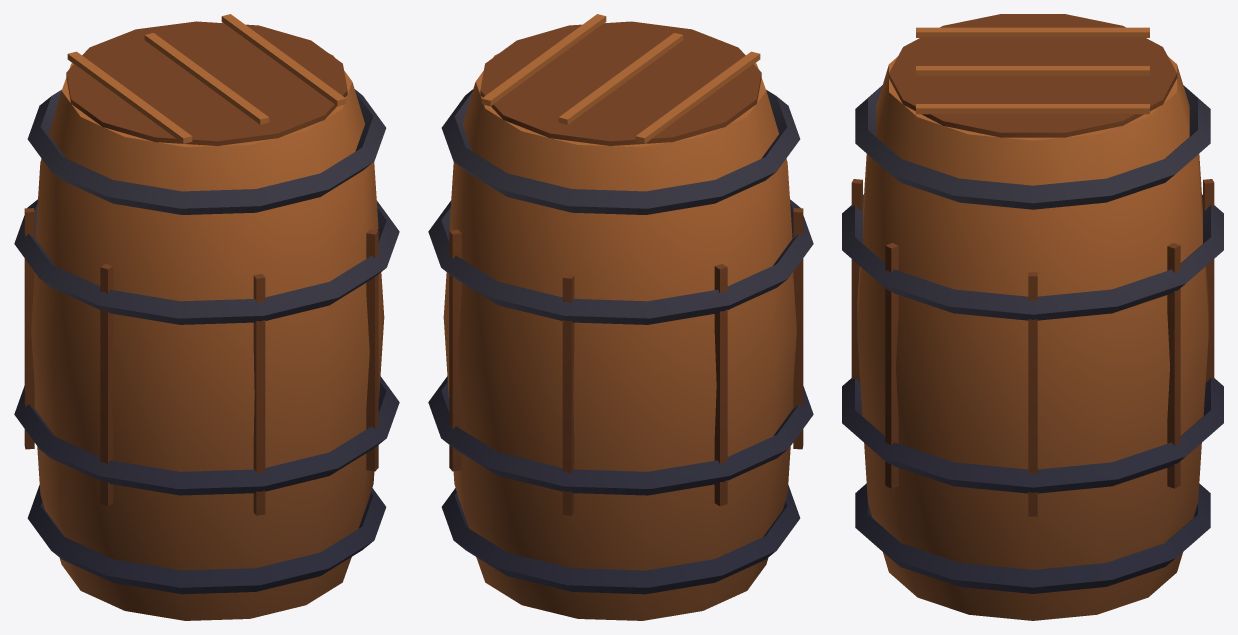
The model's file is barrel.glb.
3 renders of one model, left to right at view 1: azimuth 30°, elevation 25°; view 2: azimuth 150°, elevation 25°; view 3: azimuth 270°, elevation 25°, orthographic.
Visible parts, largest first — view 1: barrel; view 2: barrel; view 3: barrel.
Boxes of the visible parts, <box> form: barrel: <box>14,14,399,620</box>; barrel: <box>428,14,813,620</box>; barrel: <box>842,14,1223,620</box>.
Size of the model in its own units: 0.7392 by 1.02 by 0.7207.
